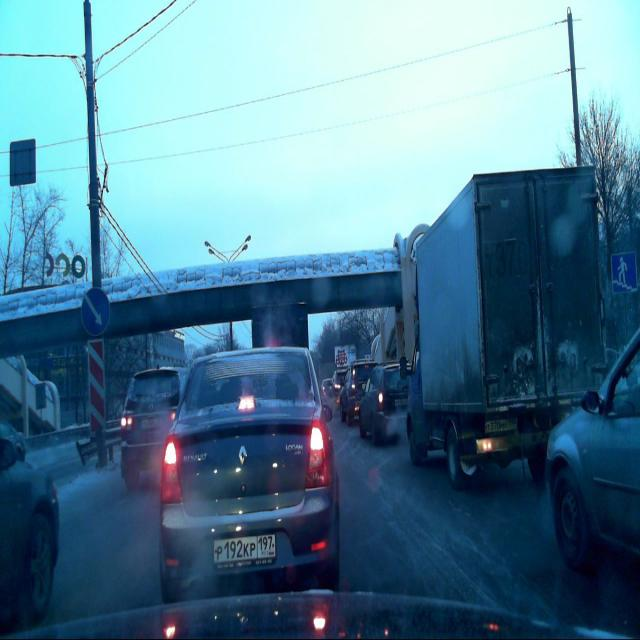object: (88, 340, 106, 436)
road sign: (610, 249, 638, 297)
